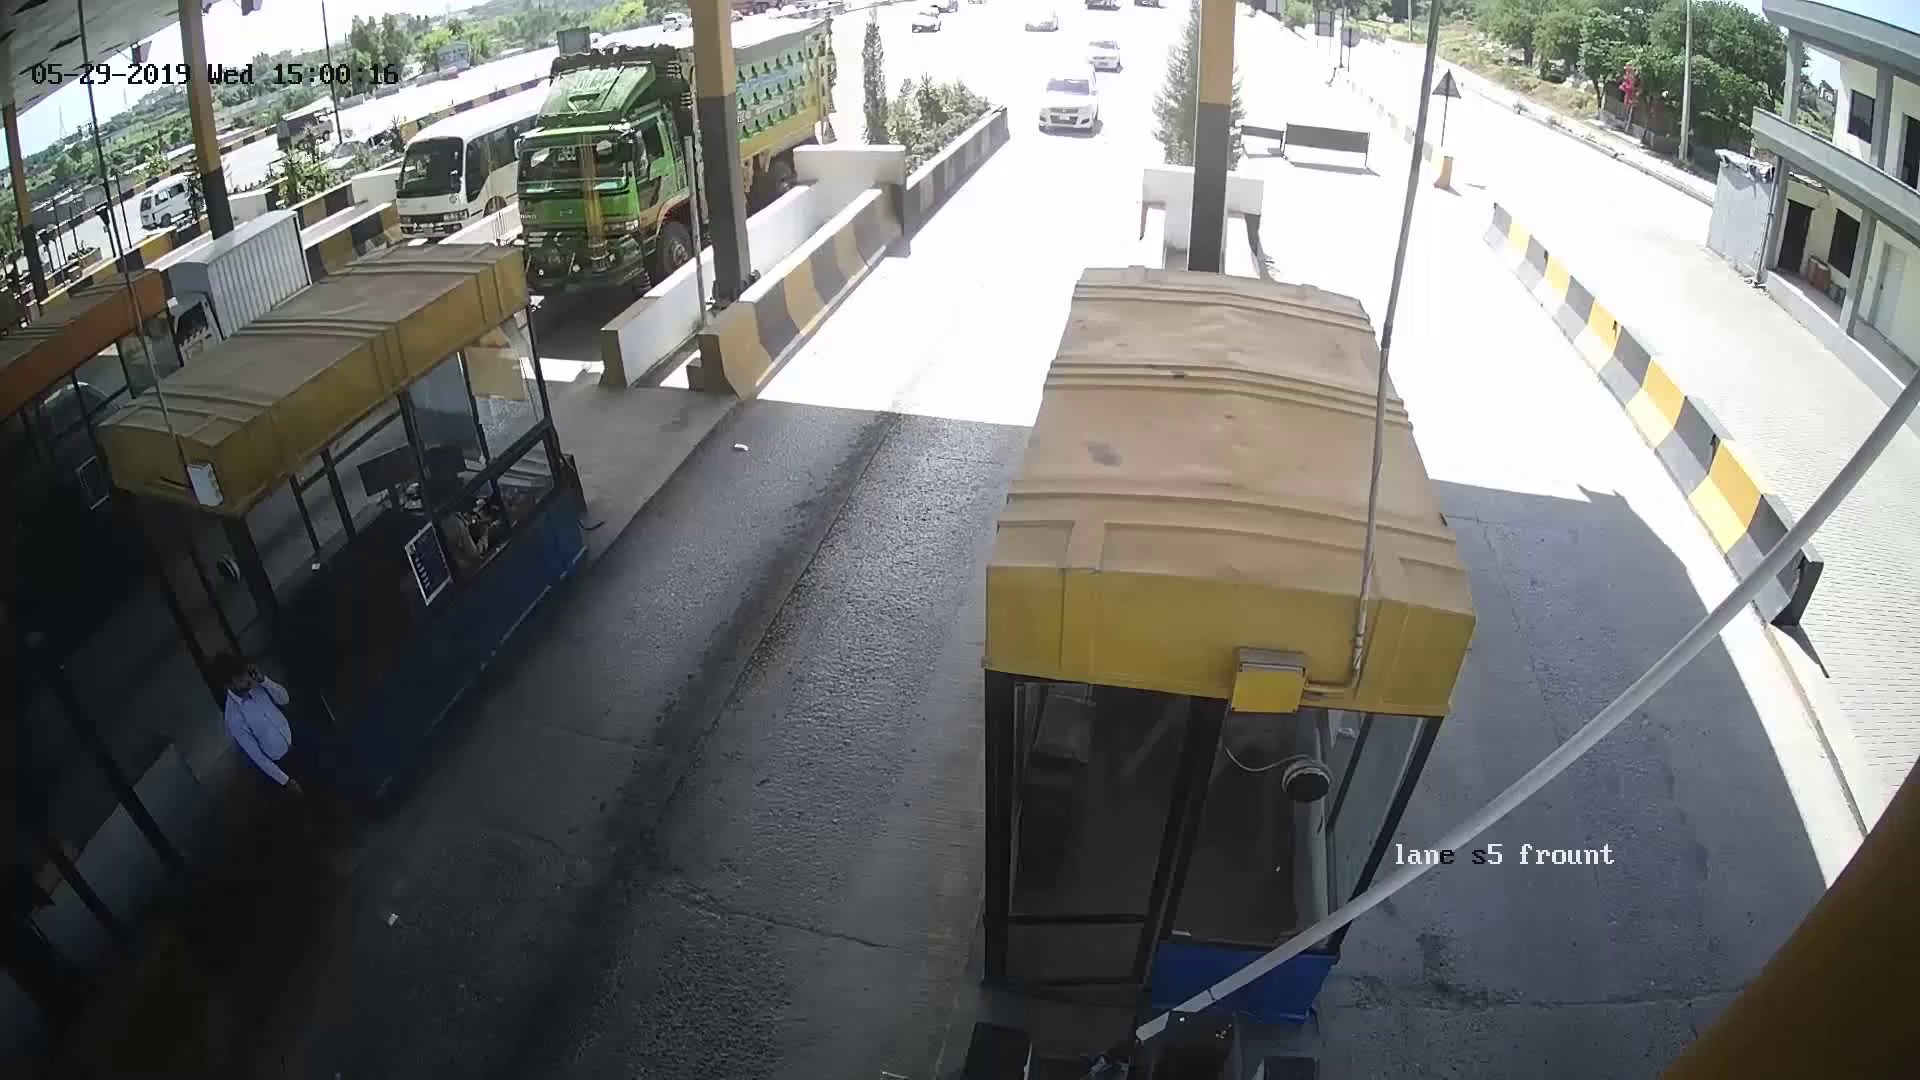car: (1019, 74, 1129, 142)
